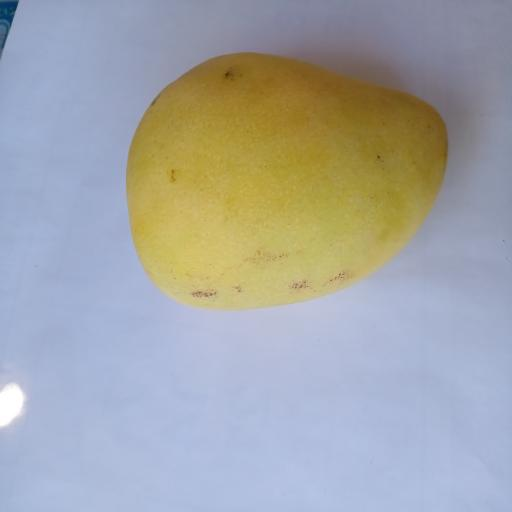mango-ripe: (103, 39, 469, 337)
